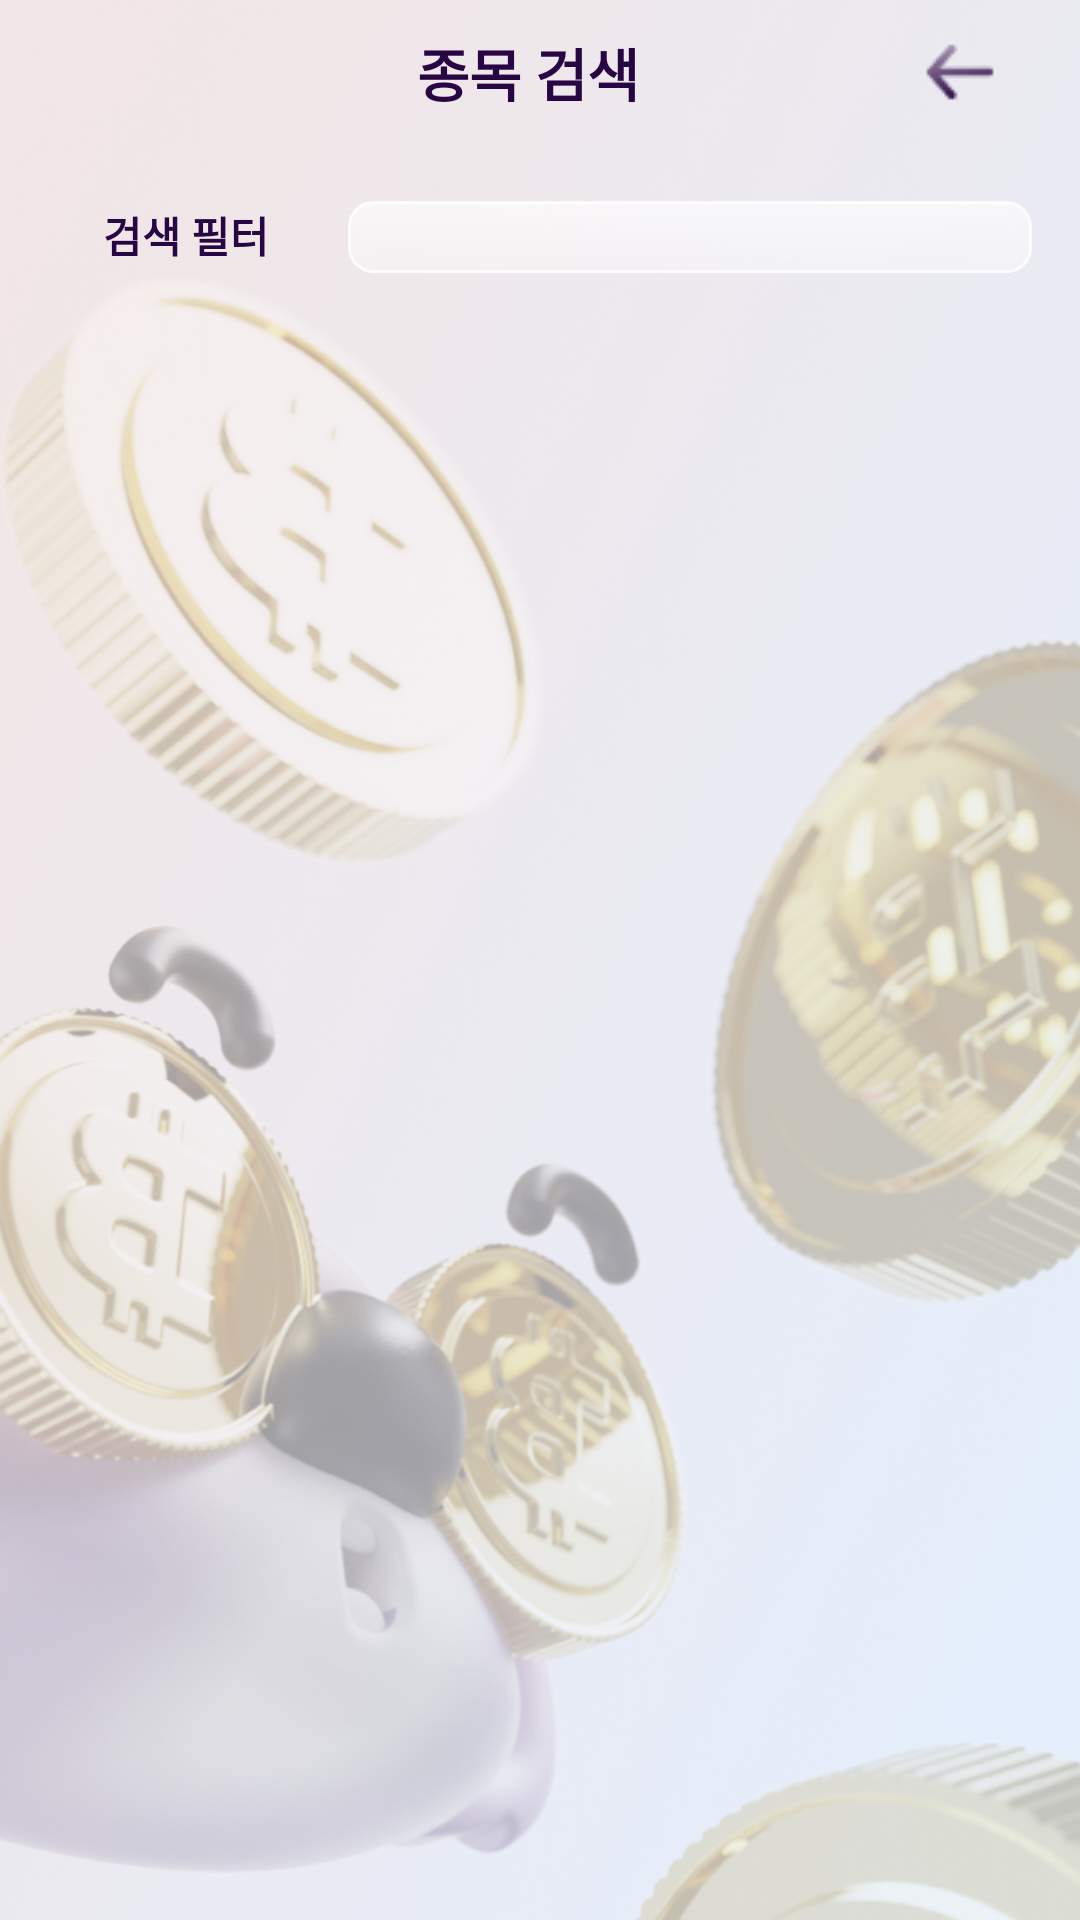

Screen size 1080 x 1920. Icon name, then its box in pixels as (x1, y1, x2, y2):
돌아가기 버튼: (926, 44, 994, 100)
